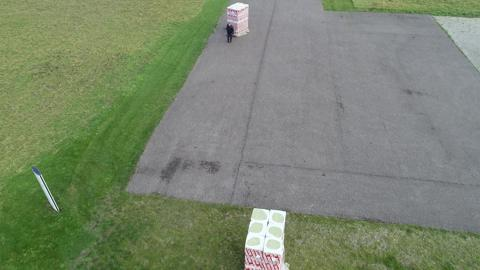RockwoolPallet: (227, 2, 250, 36)
